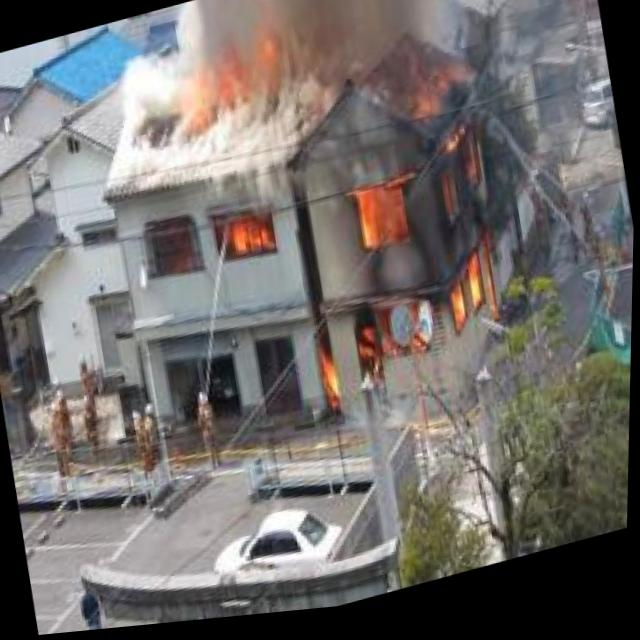Fire: (271, 56, 524, 425), (160, 37, 280, 140), (208, 207, 274, 271)
